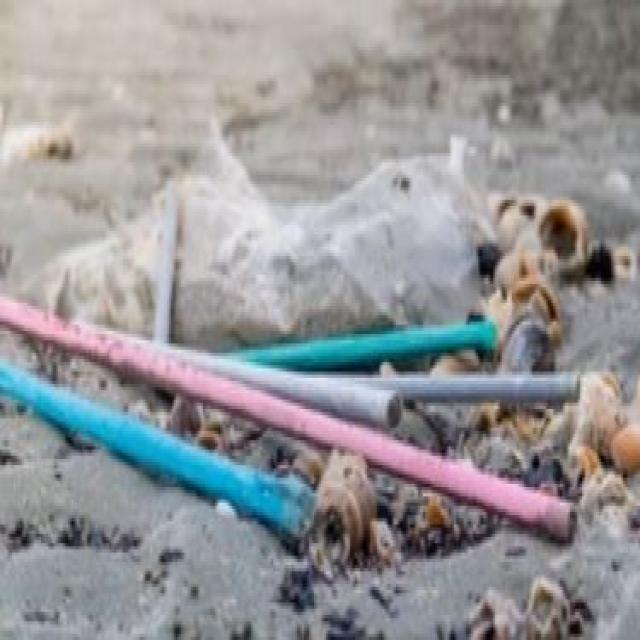electronic: (0, 291, 577, 545), (0, 340, 315, 541), (129, 335, 405, 434), (234, 319, 498, 367), (383, 367, 584, 398)
